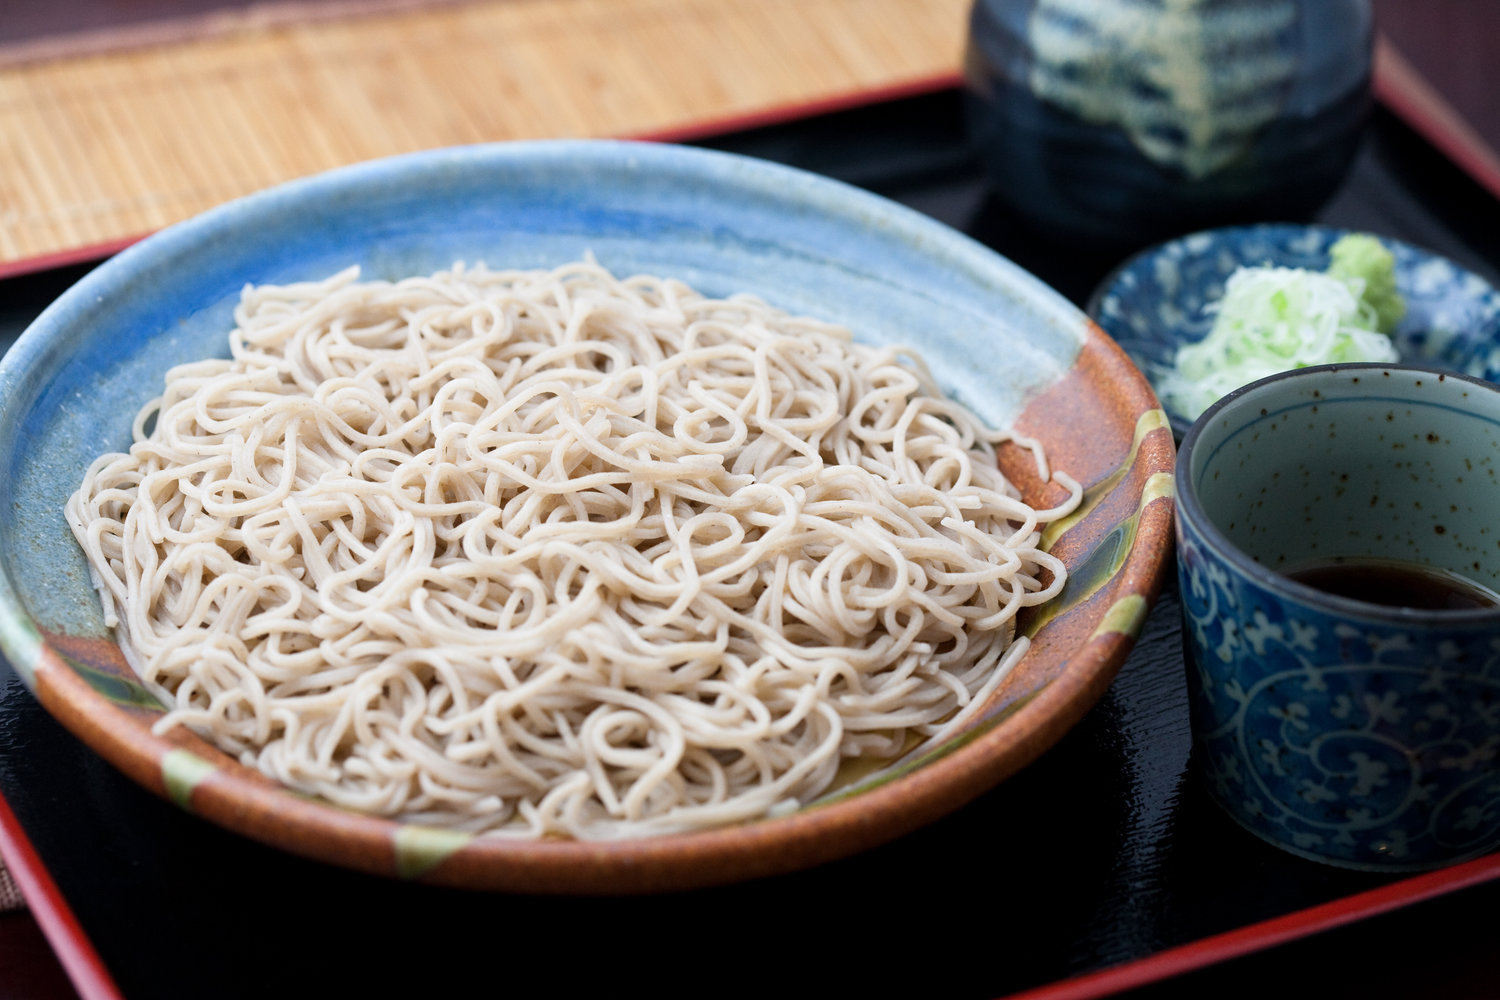Soba: (92, 258, 1070, 821)
